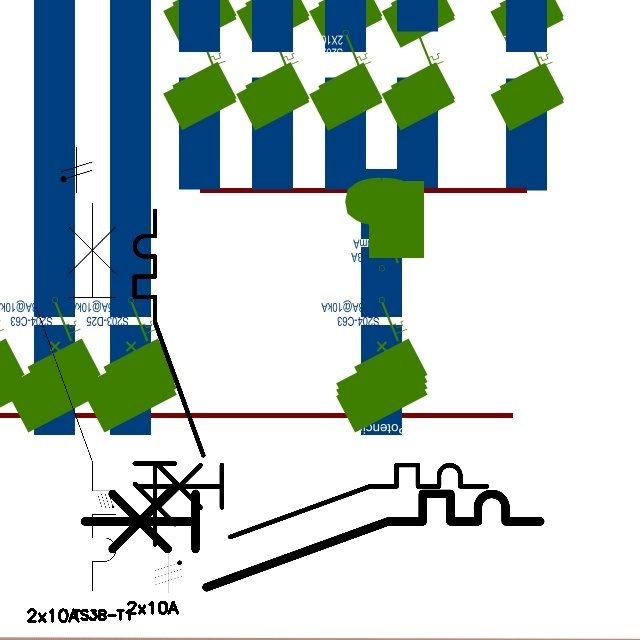interruptor_termomagnetico: (73, 482, 552, 599), (26, 193, 126, 600), (127, 456, 496, 546), (126, 202, 212, 553)
